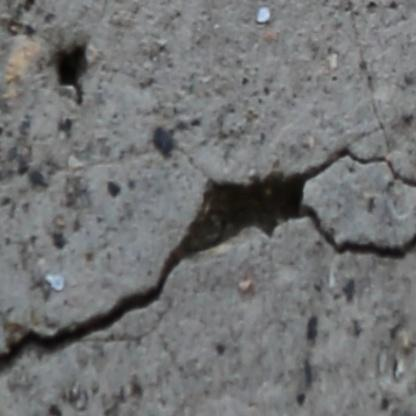Cracks: (0, 145, 416, 385)
